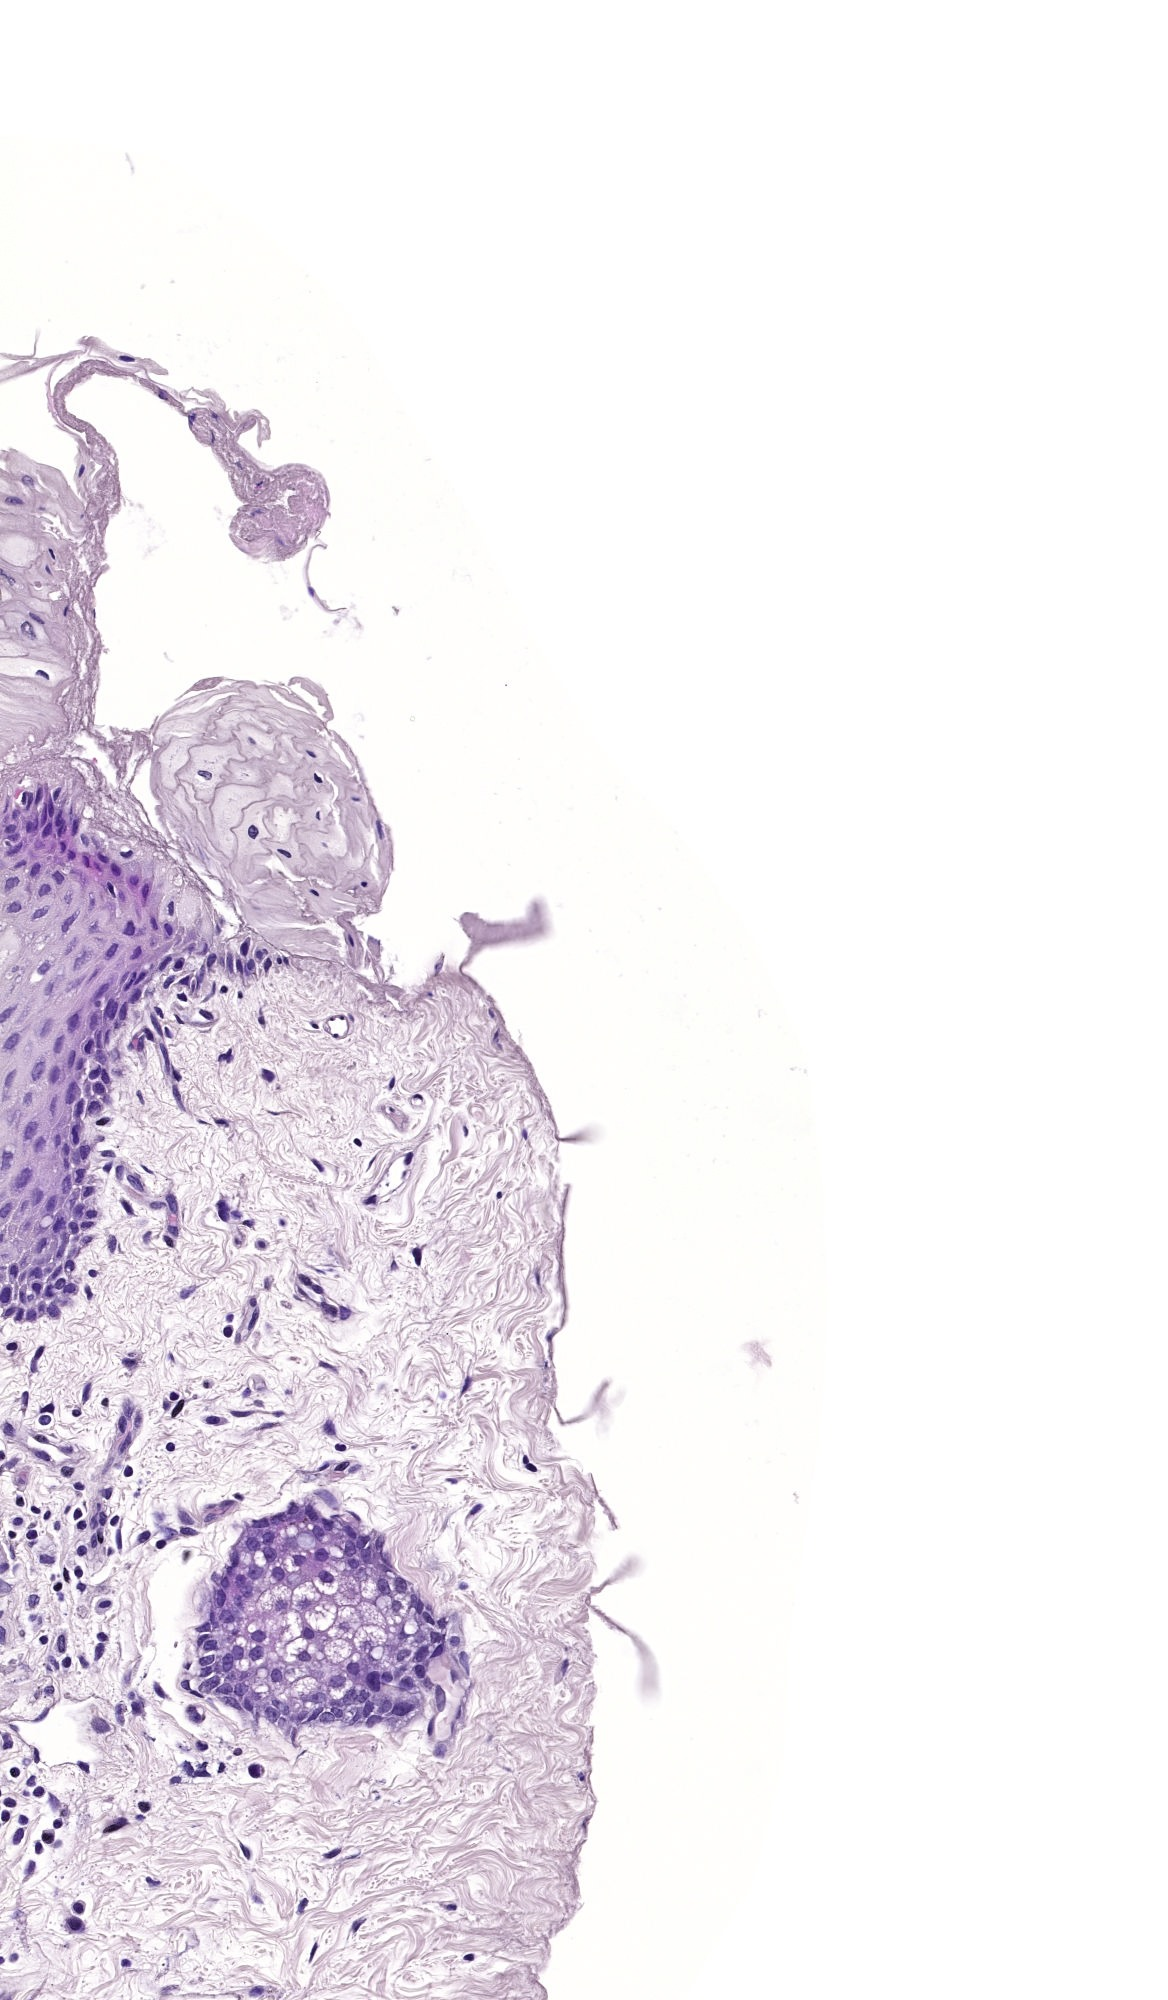epithelial: (8, 881, 17, 885), (253, 1648, 257, 1655), (122, 357, 129, 360), (400, 1708, 407, 1711), (108, 948, 113, 952), (21, 1177, 25, 1181), (275, 1673, 279, 1678), (325, 1573, 330, 1577), (252, 1543, 254, 1548), (40, 673, 44, 675), (47, 828, 50, 833), (13, 837, 17, 839), (13, 848, 17, 851), (38, 910, 40, 915), (243, 946, 246, 951), (8, 1074, 11, 1079), (85, 1223, 88, 1227), (209, 1685, 211, 1689), (203, 1628, 207, 1630), (243, 1591, 250, 1593), (26, 479, 29, 482), (252, 830, 254, 833), (56, 791, 58, 794), (70, 853, 72, 856), (13, 905, 15, 908), (57, 876, 60, 878), (74, 1226, 76, 1229), (13, 1270, 15, 1273), (8, 1311, 11, 1313), (202, 1639, 204, 1641), (241, 1689, 242, 1694), (302, 1714, 305, 1716), (299, 1557, 300, 1562), (348, 1532, 350, 1534), (425, 1616, 428, 1619), (402, 1655, 405, 1658), (325, 1716, 328, 1719), (451, 1905, 453, 1908), (303, 1901, 305, 1907), (29, 826, 33, 827), (163, 962, 164, 966), (36, 1195, 38, 1199), (50, 1201, 51, 1205), (39, 1243, 40, 1247), (207, 1659, 209, 1664), (204, 1671, 209, 1672), (235, 1557, 236, 1561), (259, 1634, 260, 1639), (227, 1658, 228, 1662), (271, 1552, 273, 1557), (380, 1541, 381, 1546), (51, 552, 53, 555), (47, 568, 49, 571), (33, 616, 35, 618), (39, 794, 40, 796), (60, 830, 61, 833), (63, 846, 64, 849), (103, 859, 106, 860), (96, 864, 97, 867), (133, 877, 135, 880), (70, 919, 71, 921), (99, 992, 102, 994), (122, 976, 124, 978), (1, 1016, 4, 1017), (46, 1028, 49, 1030), (72, 1022, 75, 1023), (135, 997, 138, 998), (97, 1037, 99, 1040), (54, 1072, 56, 1074), (71, 1090, 72, 1092), (95, 1105, 96, 1108), (31, 1129, 32, 1131), (7, 1161, 8, 1163), (76, 1209, 79, 1211), (70, 1263, 71, 1266), (60, 1283, 61, 1286), (54, 1311, 56, 1313), (209, 1644, 211, 1646), (236, 1600, 239, 1601), (234, 1703, 236, 1704), (273, 1714, 274, 1716), (254, 1571, 256, 1573), (293, 1507, 295, 1509), (311, 1511, 313, 1514), (318, 1532, 320, 1534), (278, 1571, 279, 1573), (349, 1547, 350, 1550), (398, 1605, 399, 1608), (435, 1636, 437, 1639), (317, 1698, 320, 1700), (348, 1694, 349, 1697), (362, 1697, 363, 1700), (367, 1707, 368, 1710), (439, 1696, 441, 1698), (455, 1673, 456, 1676), (331, 1853, 332, 1855), (204, 774, 206, 776), (355, 799, 356, 801), (363, 884, 364, 885), (85, 859, 86, 860), (114, 869, 115, 870), (19, 864, 21, 866), (229, 960, 231, 962), (210, 959, 211, 960), (178, 965, 179, 966), (167, 983, 168, 984), (104, 1077, 106, 1079), (56, 1140, 57, 1141), (65, 1149, 67, 1151), (88, 1190, 89, 1191), (54, 1274, 56, 1276), (70, 1287, 71, 1288), (184, 1683, 185, 1685), (196, 1693, 197, 1694), (222, 1687, 224, 1689), (225, 1583, 227, 1584), (227, 1615, 228, 1616), (238, 1653, 239, 1654), (328, 1523, 330, 1525), (360, 1543, 362, 1544), (353, 1562, 355, 1564), (400, 1583, 402, 1584), (357, 1715, 359, 1716), (427, 1683, 428, 1685), (373, 1721, 374, 1722), (452, 1728, 453, 1729), (350, 1855, 352, 1857)
fibroblast and endothelial: (182, 1514, 186, 1521), (40, 1454, 44, 1459), (122, 1443, 129, 1445), (63, 1469, 70, 1472), (132, 1181, 136, 1186), (316, 1287, 320, 1291), (184, 1293, 186, 1298), (491, 1010, 494, 1015), (88, 1291, 92, 1294), (264, 1426, 267, 1430), (7, 1427, 10, 1432), (42, 1714, 44, 1718), (170, 1530, 174, 1533), (224, 1502, 228, 1505), (136, 1704, 138, 1711), (154, 1022, 157, 1024), (466, 1129, 469, 1131), (523, 1133, 526, 1136), (154, 1204, 157, 1206), (127, 1206, 129, 1209), (146, 1236, 149, 1238), (113, 1240, 114, 1245), (327, 1497, 330, 1500), (38, 1351, 40, 1354), (129, 1359, 132, 1362), (67, 1450, 70, 1452), (102, 1518, 104, 1521), (46, 1558, 49, 1561), (51, 1659, 54, 1662), (99, 1648, 102, 1651), (476, 1507, 478, 1509), (202, 1772, 204, 1775), (190, 1767, 192, 1772), (149, 1880, 152, 1883), (83, 1765, 86, 1768), (469, 1957, 471, 1960), (179, 997, 184, 998), (164, 1049, 165, 1054), (252, 1301, 253, 1305), (239, 1413, 243, 1415), (178, 1405, 179, 1409), (31, 1616, 35, 1618), (195, 1716, 196, 1721), (213, 414, 216, 416), (100, 1122, 103, 1123), (159, 1010, 160, 1013), (147, 1033, 149, 1035), (179, 1020, 182, 1022), (139, 1094, 140, 1097), (225, 1055, 228, 1056), (261, 1020, 263, 1023), (331, 1017, 332, 1020), (392, 1081, 394, 1084), (318, 1165, 320, 1167), (108, 1154, 111, 1155), (107, 1167, 108, 1170), (170, 1198, 172, 1199), (224, 1215, 225, 1218), (306, 1279, 307, 1281), (259, 1402, 260, 1405), (323, 1468, 324, 1470), (342, 1466, 343, 1469), (352, 1468, 355, 1469), (49, 1407, 50, 1409), (40, 1438, 43, 1440), (100, 1539, 102, 1541), (142, 1537, 145, 1539), (209, 1518, 210, 1521), (464, 1584, 466, 1587), (97, 1723, 99, 1726), (221, 1767, 222, 1769), (175, 1778, 177, 1780), (108, 1828, 111, 1829), (17, 1833, 18, 1836), (6, 1746, 8, 1747), (256, 1990, 259, 1992), (313, 1949, 314, 1951), (207, 1015, 209, 1016), (168, 1033, 170, 1034), (221, 1123, 222, 1124), (314, 1026, 316, 1027), (357, 1142, 359, 1144), (499, 1195, 501, 1197), (303, 1293, 305, 1294), (174, 1231, 175, 1233), (531, 1468, 533, 1469), (128, 1409, 129, 1411), (67, 1508, 68, 1509), (49, 1690, 50, 1691), (83, 1662, 85, 1664), (190, 1710, 192, 1711)
inflammatory: (253, 1767, 256, 1771), (76, 1907, 79, 1910), (227, 1331, 228, 1336), (60, 1641, 61, 1646), (31, 1534, 33, 1536), (46, 1837, 49, 1839), (75, 1924, 76, 1926), (261, 1244, 263, 1245), (341, 1448, 342, 1450), (206, 1386, 207, 1387), (106, 1603, 107, 1604)
lymphocyte: (74, 1411, 76, 1413), (115, 1521, 118, 1523), (4, 1812, 6, 1818), (124, 853, 128, 855), (108, 885, 110, 890), (13, 1345, 14, 1350), (42, 1639, 43, 1641), (67, 1662, 68, 1665), (236, 1750, 238, 1753), (35, 1511, 36, 1512), (79, 1573, 81, 1575), (15, 1772, 17, 1773)
